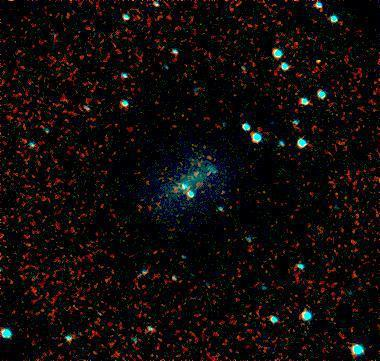star: (303, 48, 333, 78)
